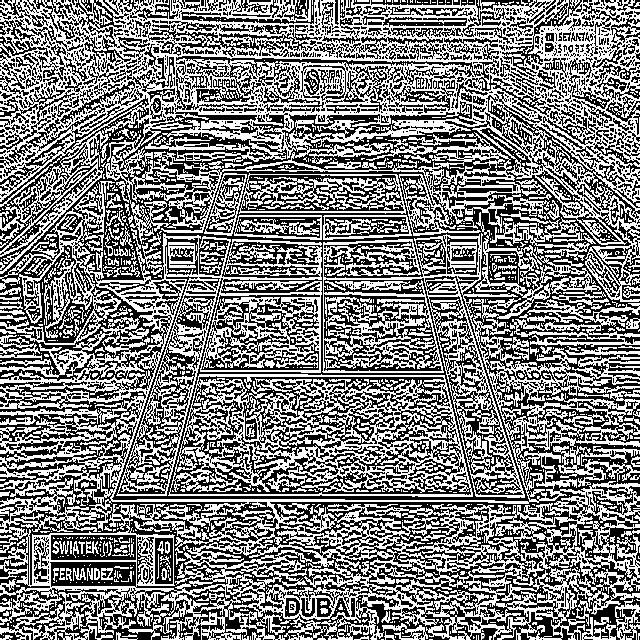left side: (113, 172, 248, 498), (396, 172, 527, 499)
player: (237, 372, 263, 484), (279, 107, 293, 163)
